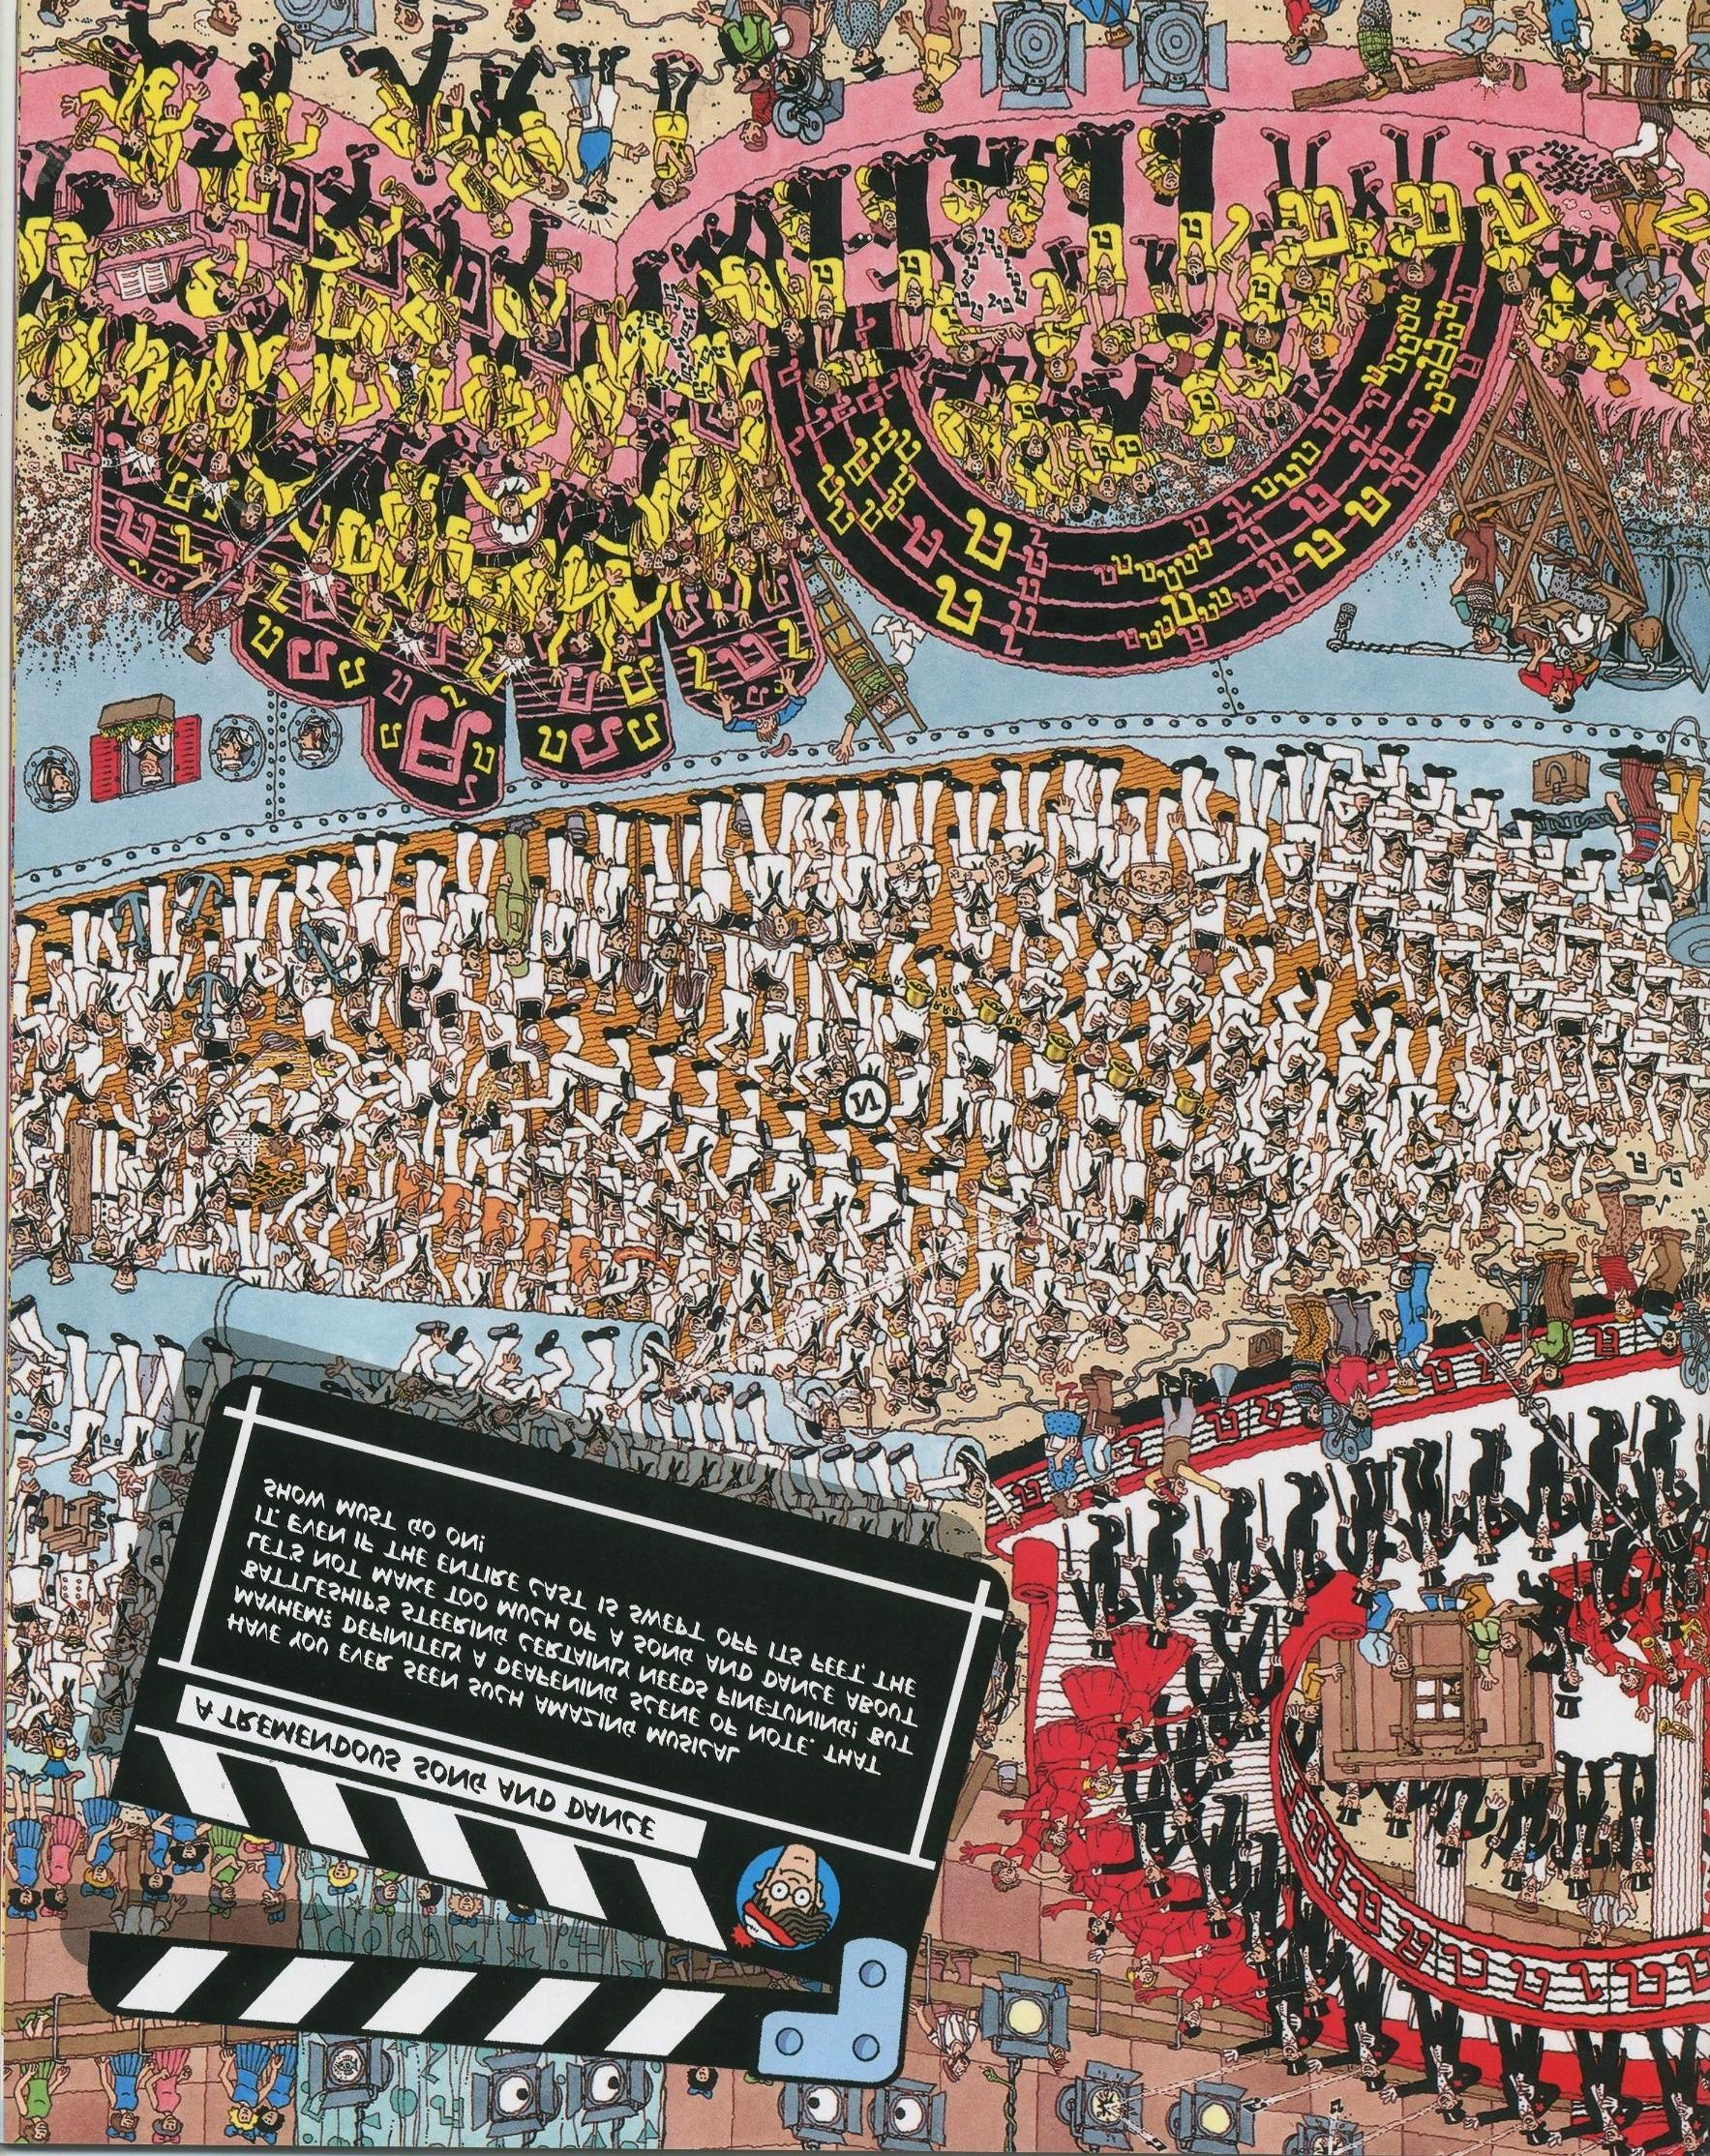waldos: (726, 1841, 840, 1958)
